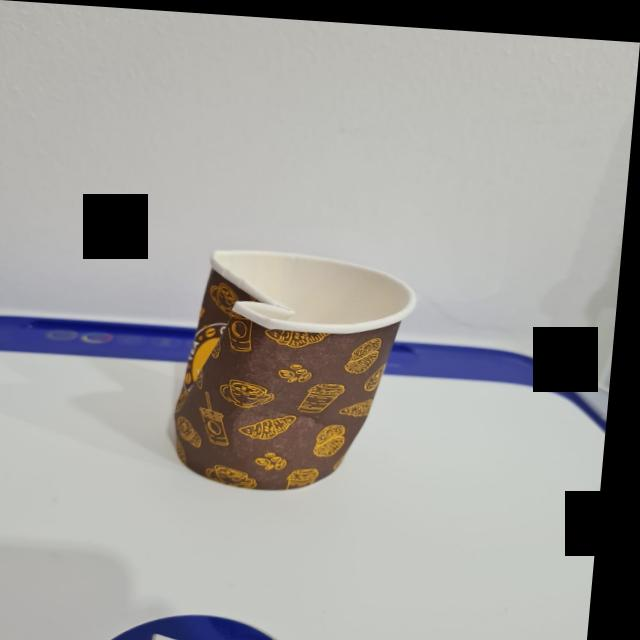cups: (141, 227, 431, 512)
